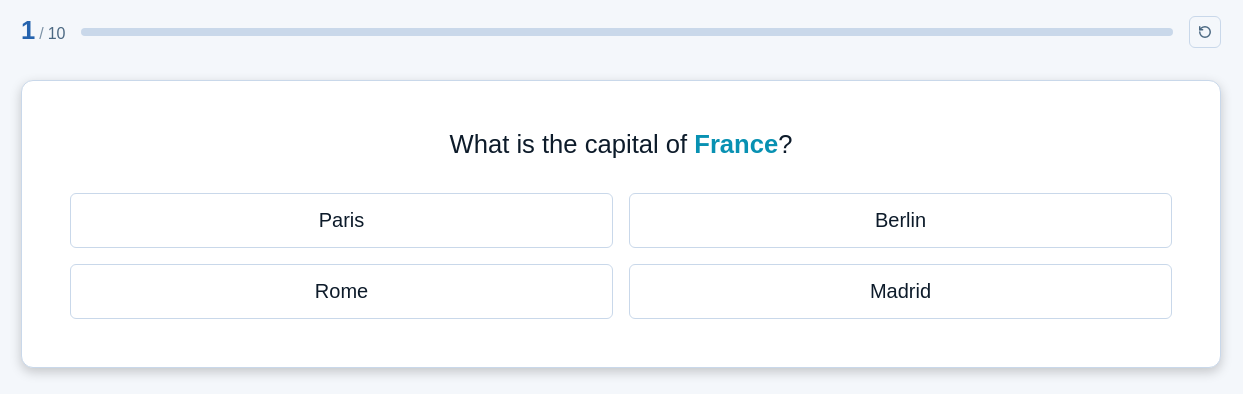
Question › disables all options after selecting one
The width and height of the screenshot is (1243, 394).
Click the radio button "Paris". click: (342, 220)
box: x1=70 y1=193 x2=613 y2=248
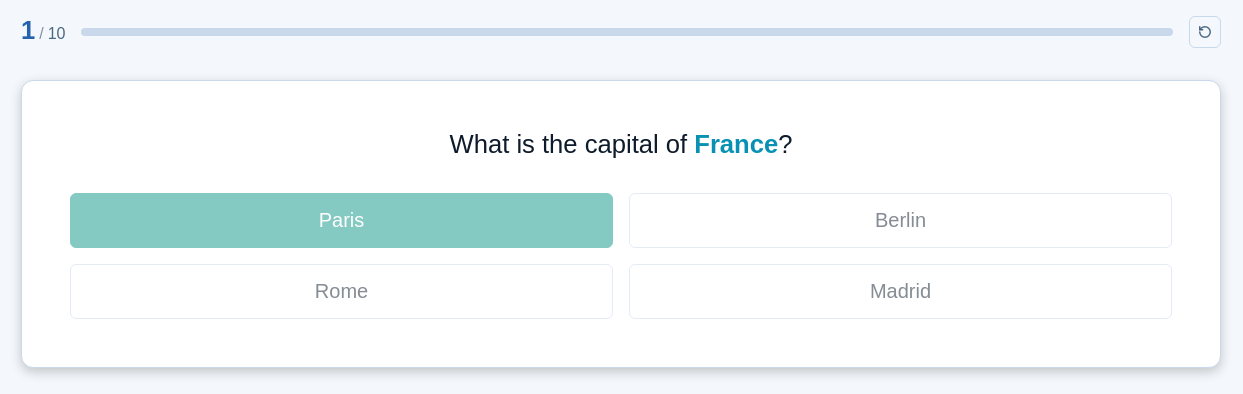
Now the radio button labelled "Paris" is disabled, box x1=70 y1=193 x2=613 y2=248
Now the radio button labelled "Berlin" is disabled, box x1=629 y1=193 x2=1172 y2=248
Now the radio button labelled "Rome" is disabled, box x1=70 y1=264 x2=613 y2=319
